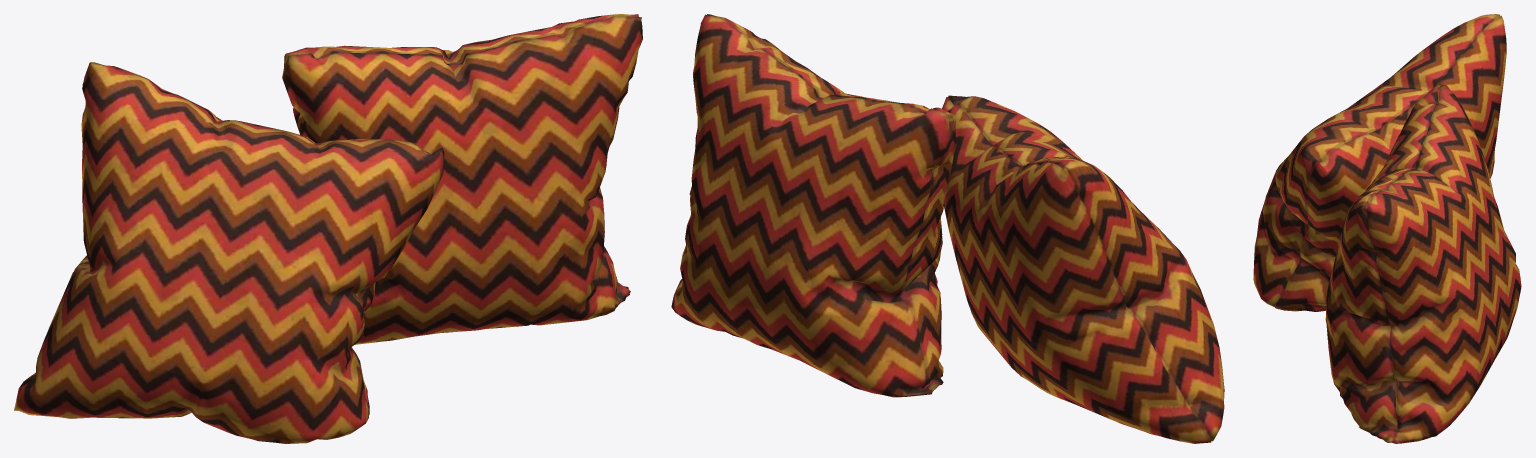
The model's file is throw_pillows_01.glb.
3 views of the same model, side by side, from view 1: azimuth 30°, elevation 25°; view 2: azimuth 150°, elevation 25°; view 3: azimuth 270°, elevation 25° (orthographic). The views are drawn at different scales.
Visible parts, largest first — view 1: throw_pillows_01_pillow02; view 2: throw_pillows_01_pillow02; view 3: throw_pillows_01_pillow02.
Boxes of the visible parts, x1,y1,x2,y2 form: throw_pillows_01_pillow02: (14,14,642,443); throw_pillows_01_pillow02: (671,14,1224,443); throw_pillows_01_pillow02: (1253,14,1521,443).
Size of the model in its own units: 0.9401 by 0.4502 by 0.4518.
Materials: 1 (1 with a texture image).
